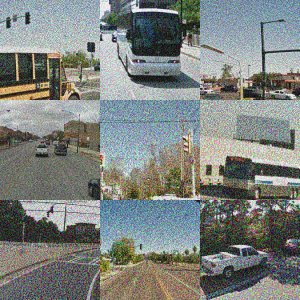樓梯: (36, 40, 84, 86)
汽車: (141, 279, 189, 297)
紅綠燈: (123, 245, 160, 260)
行人穿越道: (100, 153, 198, 198), (200, 127, 299, 159), (118, 41, 201, 60), (142, 122, 196, 144)
計程車: (100, 116, 140, 153), (152, 104, 187, 120)
